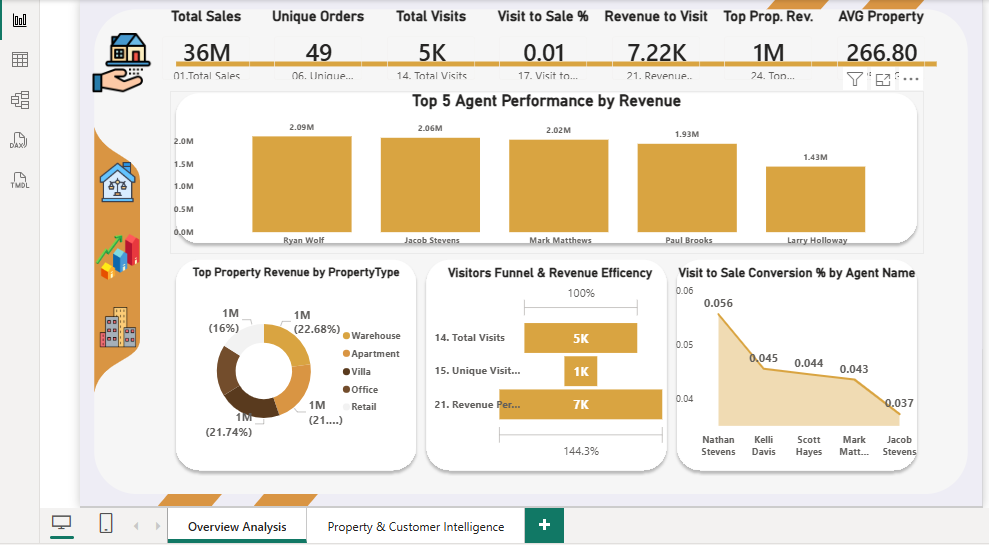

What the dashboard file says about the page in this screenshot:
{"tool":"powerbi","page":{"name":"Overview Analysis","canvas":[1280,720],"ordinal":0},"visuals":[{"type":"group","id":"g1","title":"Group 1","box":[99.4,10.7,1114.8,119.3],"z":0},{"type":"cardVisual","title":"Total Sales","fields":{"Data":["_Key Measures.01.Total Sales"]},"box":[99.4,10.7,159.3,119.5],"z":0,"group":"g1"},{"type":"image","box":[21.3,229.6,63.8,56.7],"z":0,"group":"g2"},{"type":"cardVisual","title":"Unique Orders","fields":{"Data":["_Key Measures.06. Unique Order"]},"box":[258.7,10.7,159.3,119.5],"z":1000,"group":"g1"},{"type":"columnChart","title":"Top 5 Agent Performance by Revenue","fields":{"Category":["Dim - Agents.Full Name"],"Y":["_Key Measures.19. Revenue Per Agent"]},"box":[127.8,129.6,1068.2,230.1],"z":1000},{"type":"image","box":[4.3,435.1,99.2,56.7],"z":1000,"group":"g2"},{"type":"cardVisual","title":"Total Visits","fields":{"Data":["_Key Measures.14. Total Visits"]},"box":[418.1,10.7,159.3,119.5],"z":2000,"group":"g1"},{"type":"image","box":[14.2,331.6,78,65.2],"z":2000,"group":"g2"},{"type":"donutChart","title":"Top Property Revenue by PropertyType","fields":{"Y":["_Key Measures.24. Top Property Revenue"],"Category":["Dim - Properties.PropertyType"]},"box":[144.3,375.6,324.1,281.3],"z":2000},{"type":"cardVisual","title":"Visit to Sale %","fields":{"Data":["_Key Measures.17. Visit to Sale Conversion %"]},"box":[577.4,10.7,159.3,119.5],"z":3000,"group":"g1"},{"type":"funnel","title":"Visitors Funnel & Revenue Efficency","fields":{"Y":["_Key Measures.14. Total Visits","_Key Measures.15. Unique Visitors","_Key Measures.21. Revenue Per Visit"]},"box":[497.8,376.3,337.8,280],"z":3000},{"type":"cardVisual","title":"Revenue to Visit","fields":{"Data":["_Key Measures.21. Revenue Per Visit"]},"box":[736.8,10.7,159.3,119.5],"z":4000,"group":"g1"},{"type":"areaChart","title":"Visit to Sale Conversion % by Agent Name","fields":{"Category":["Dim - Agents.Agent Name"],"Y":["_Key Measures.17. Visit to Sale Conversion %"]},"box":[836,376,360,280],"z":4000},{"type":"cardVisual","title":"Top Prop. Rev.","fields":{"Data":["_Key Measures.24. Top Property Revenue"]},"box":[896.1,10.7,159.3,119.5],"z":5000,"group":"g1"},{"type":"image","box":[0,46.8,117.6,83.6],"z":5000},{"type":"cardVisual","title":"AVG Property","fields":{"Data":["_Key Measures.25. AVG Property Size Sold"]},"box":[1055.4,10.7,159.3,119.5],"z":6000,"group":"g1"},{"type":"group","id":"g2","title":"Group 2","box":[4.3,229.6,99.2,262.2],"z":6000}]}

Visuals, with their boxes on the page's 1280x720 design canvas (x1, y1, x2, y2). These are canvas units, not pixel positions in the 989x545 screenshot, which may show the page scaled, cropped or inside an application window:
"Group 1" group: select_region(99, 11, 1214, 130)
"Total Sales" cardVisual: select_region(99, 11, 259, 130)
image: select_region(21, 230, 85, 286)
"Unique Orders" cardVisual: select_region(259, 11, 418, 130)
"Top 5 Agent Performance by Revenue" columnChart: select_region(128, 130, 1196, 360)
image: select_region(4, 435, 104, 492)
"Total Visits" cardVisual: select_region(418, 11, 577, 130)
image: select_region(14, 332, 92, 397)
"Top Property Revenue by PropertyType" donutChart: select_region(144, 376, 468, 657)
"Visit to Sale %" cardVisual: select_region(577, 11, 737, 130)
"Visitors Funnel & Revenue Efficency" funnel: select_region(498, 376, 836, 656)
"Revenue to Visit" cardVisual: select_region(737, 11, 896, 130)
"Visit to Sale Conversion % by Agent Name" areaChart: select_region(836, 376, 1196, 656)
"Top Prop. Rev." cardVisual: select_region(896, 11, 1055, 130)
image: select_region(0, 47, 118, 130)
"AVG Property" cardVisual: select_region(1055, 11, 1215, 130)
"Group 2" group: select_region(4, 230, 104, 492)
